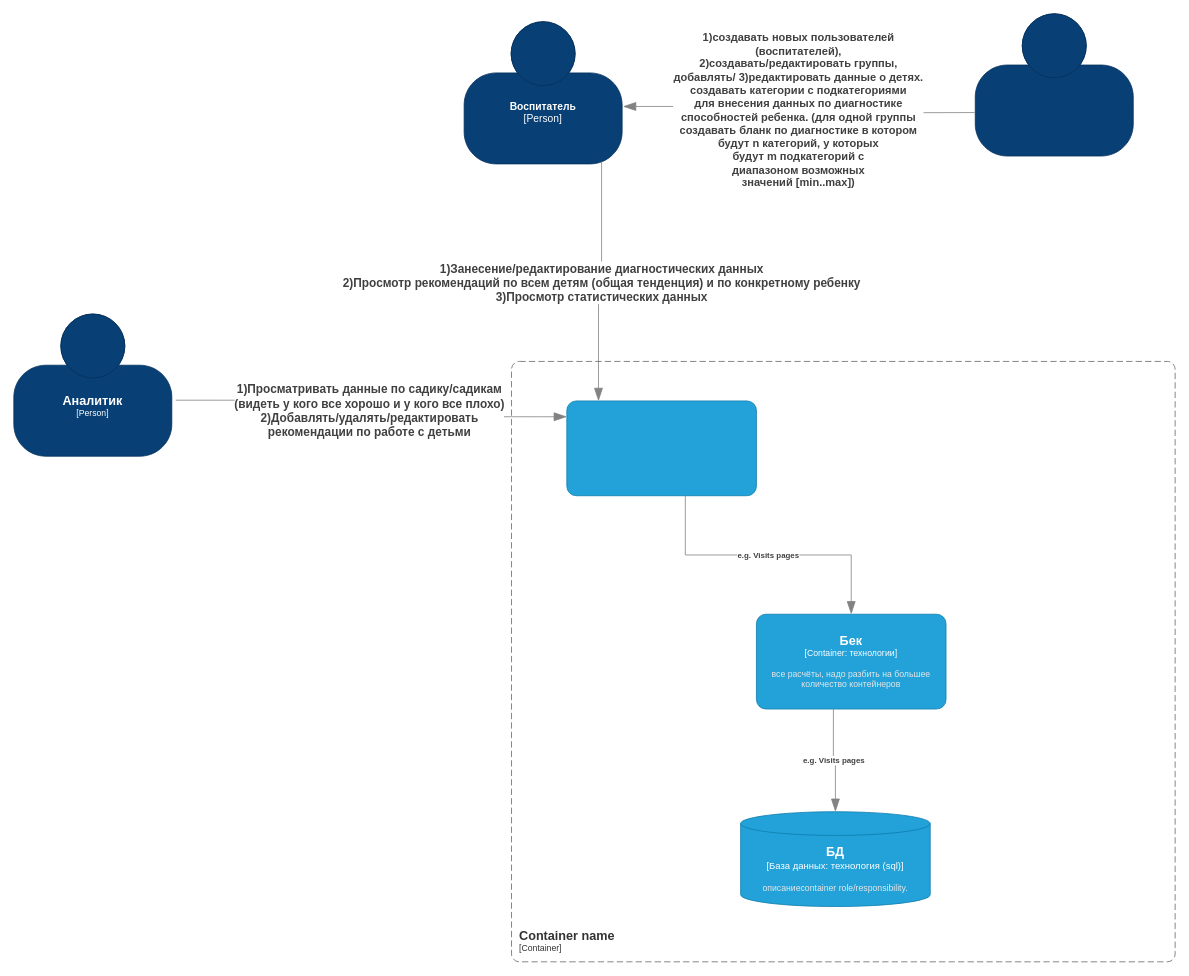
Some shapes in this 1189 by 976 pixel diagram are drawn without their labels. The centre of each missing label's shape, as x and y in pixels:
Заведующий [Person]: the point at 1053,84
фронт [Container: технологии] разбить только на веб/мобилку можно: the point at 661,448
